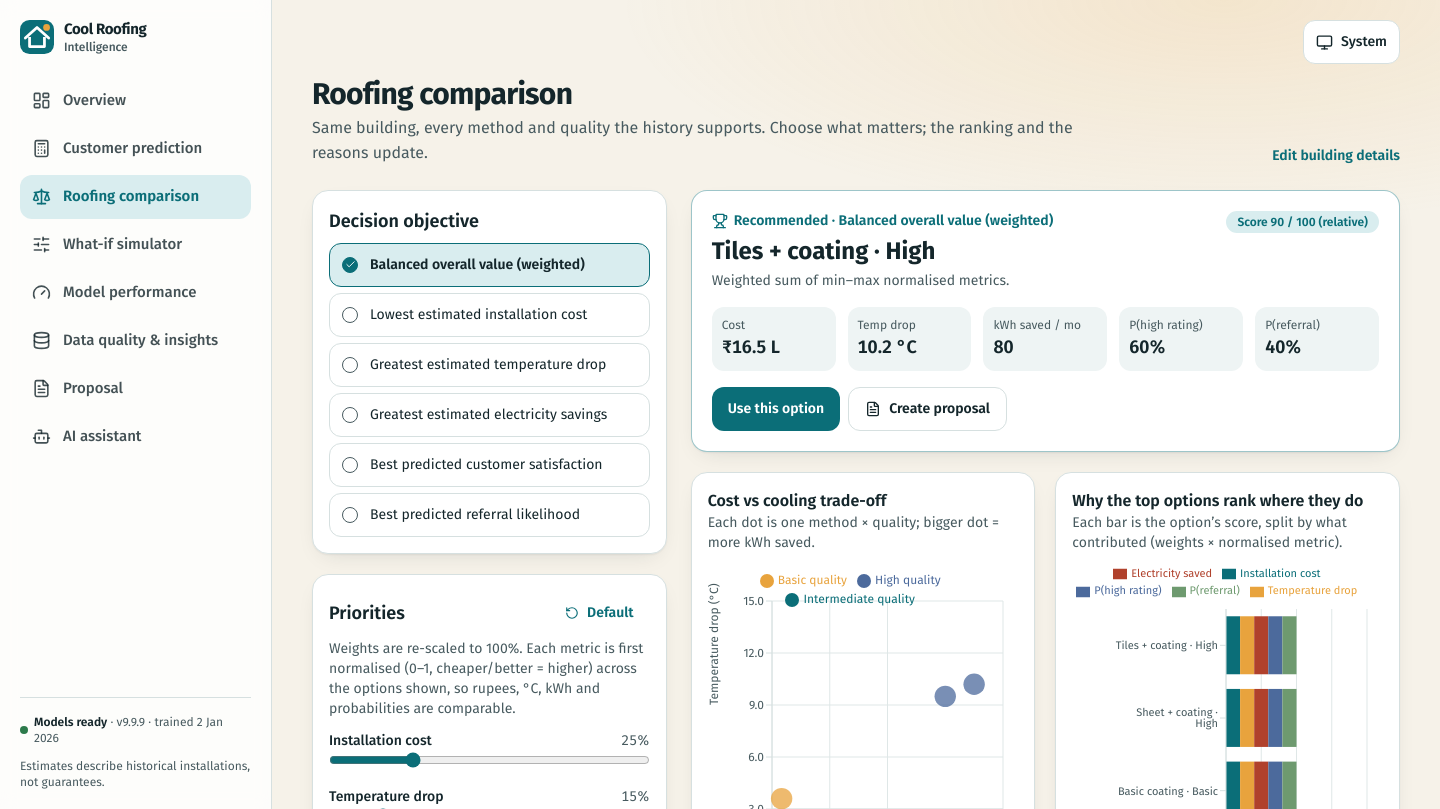
Test: roofing comparison › compares options, explains the recommendation and lets the user adopt it
The width and height of the screenshot is (1440, 809).
Expected: the heading "Tiles + coating · High" is shown, top-left (712, 237), bottom-right (935, 265)
Expected: the text "Weighted sum of min–max normalised metrics." is shown, top-left (712, 271), bottom-right (1053, 291)
What coordinates should you click on to do the following:
click the button "Use this option"
I would click on:
 (776, 409)
Its box is top-left (712, 387), bottom-right (840, 431).
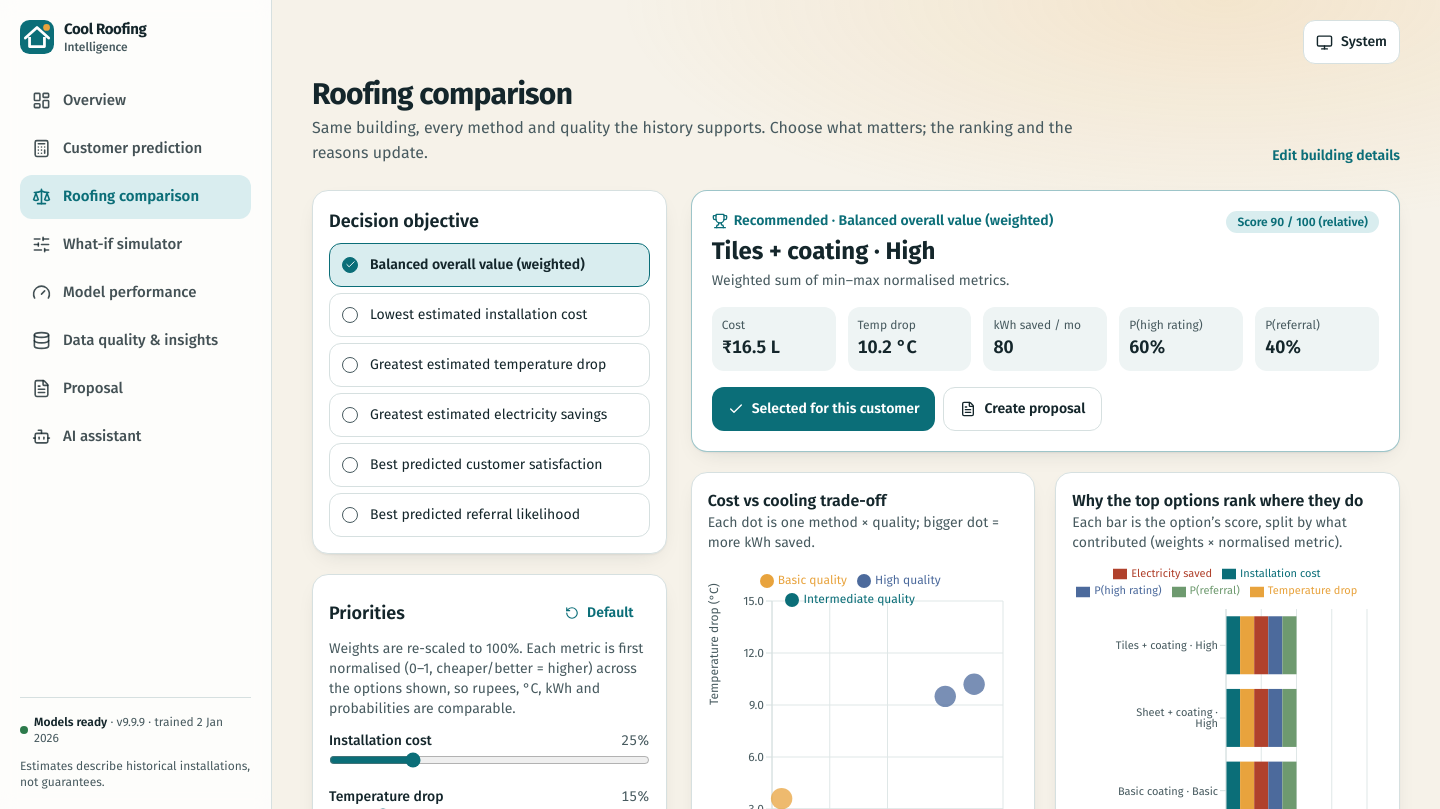
Expected: the button "Selected for this customer" is shown, top-left (712, 387), bottom-right (936, 431)
